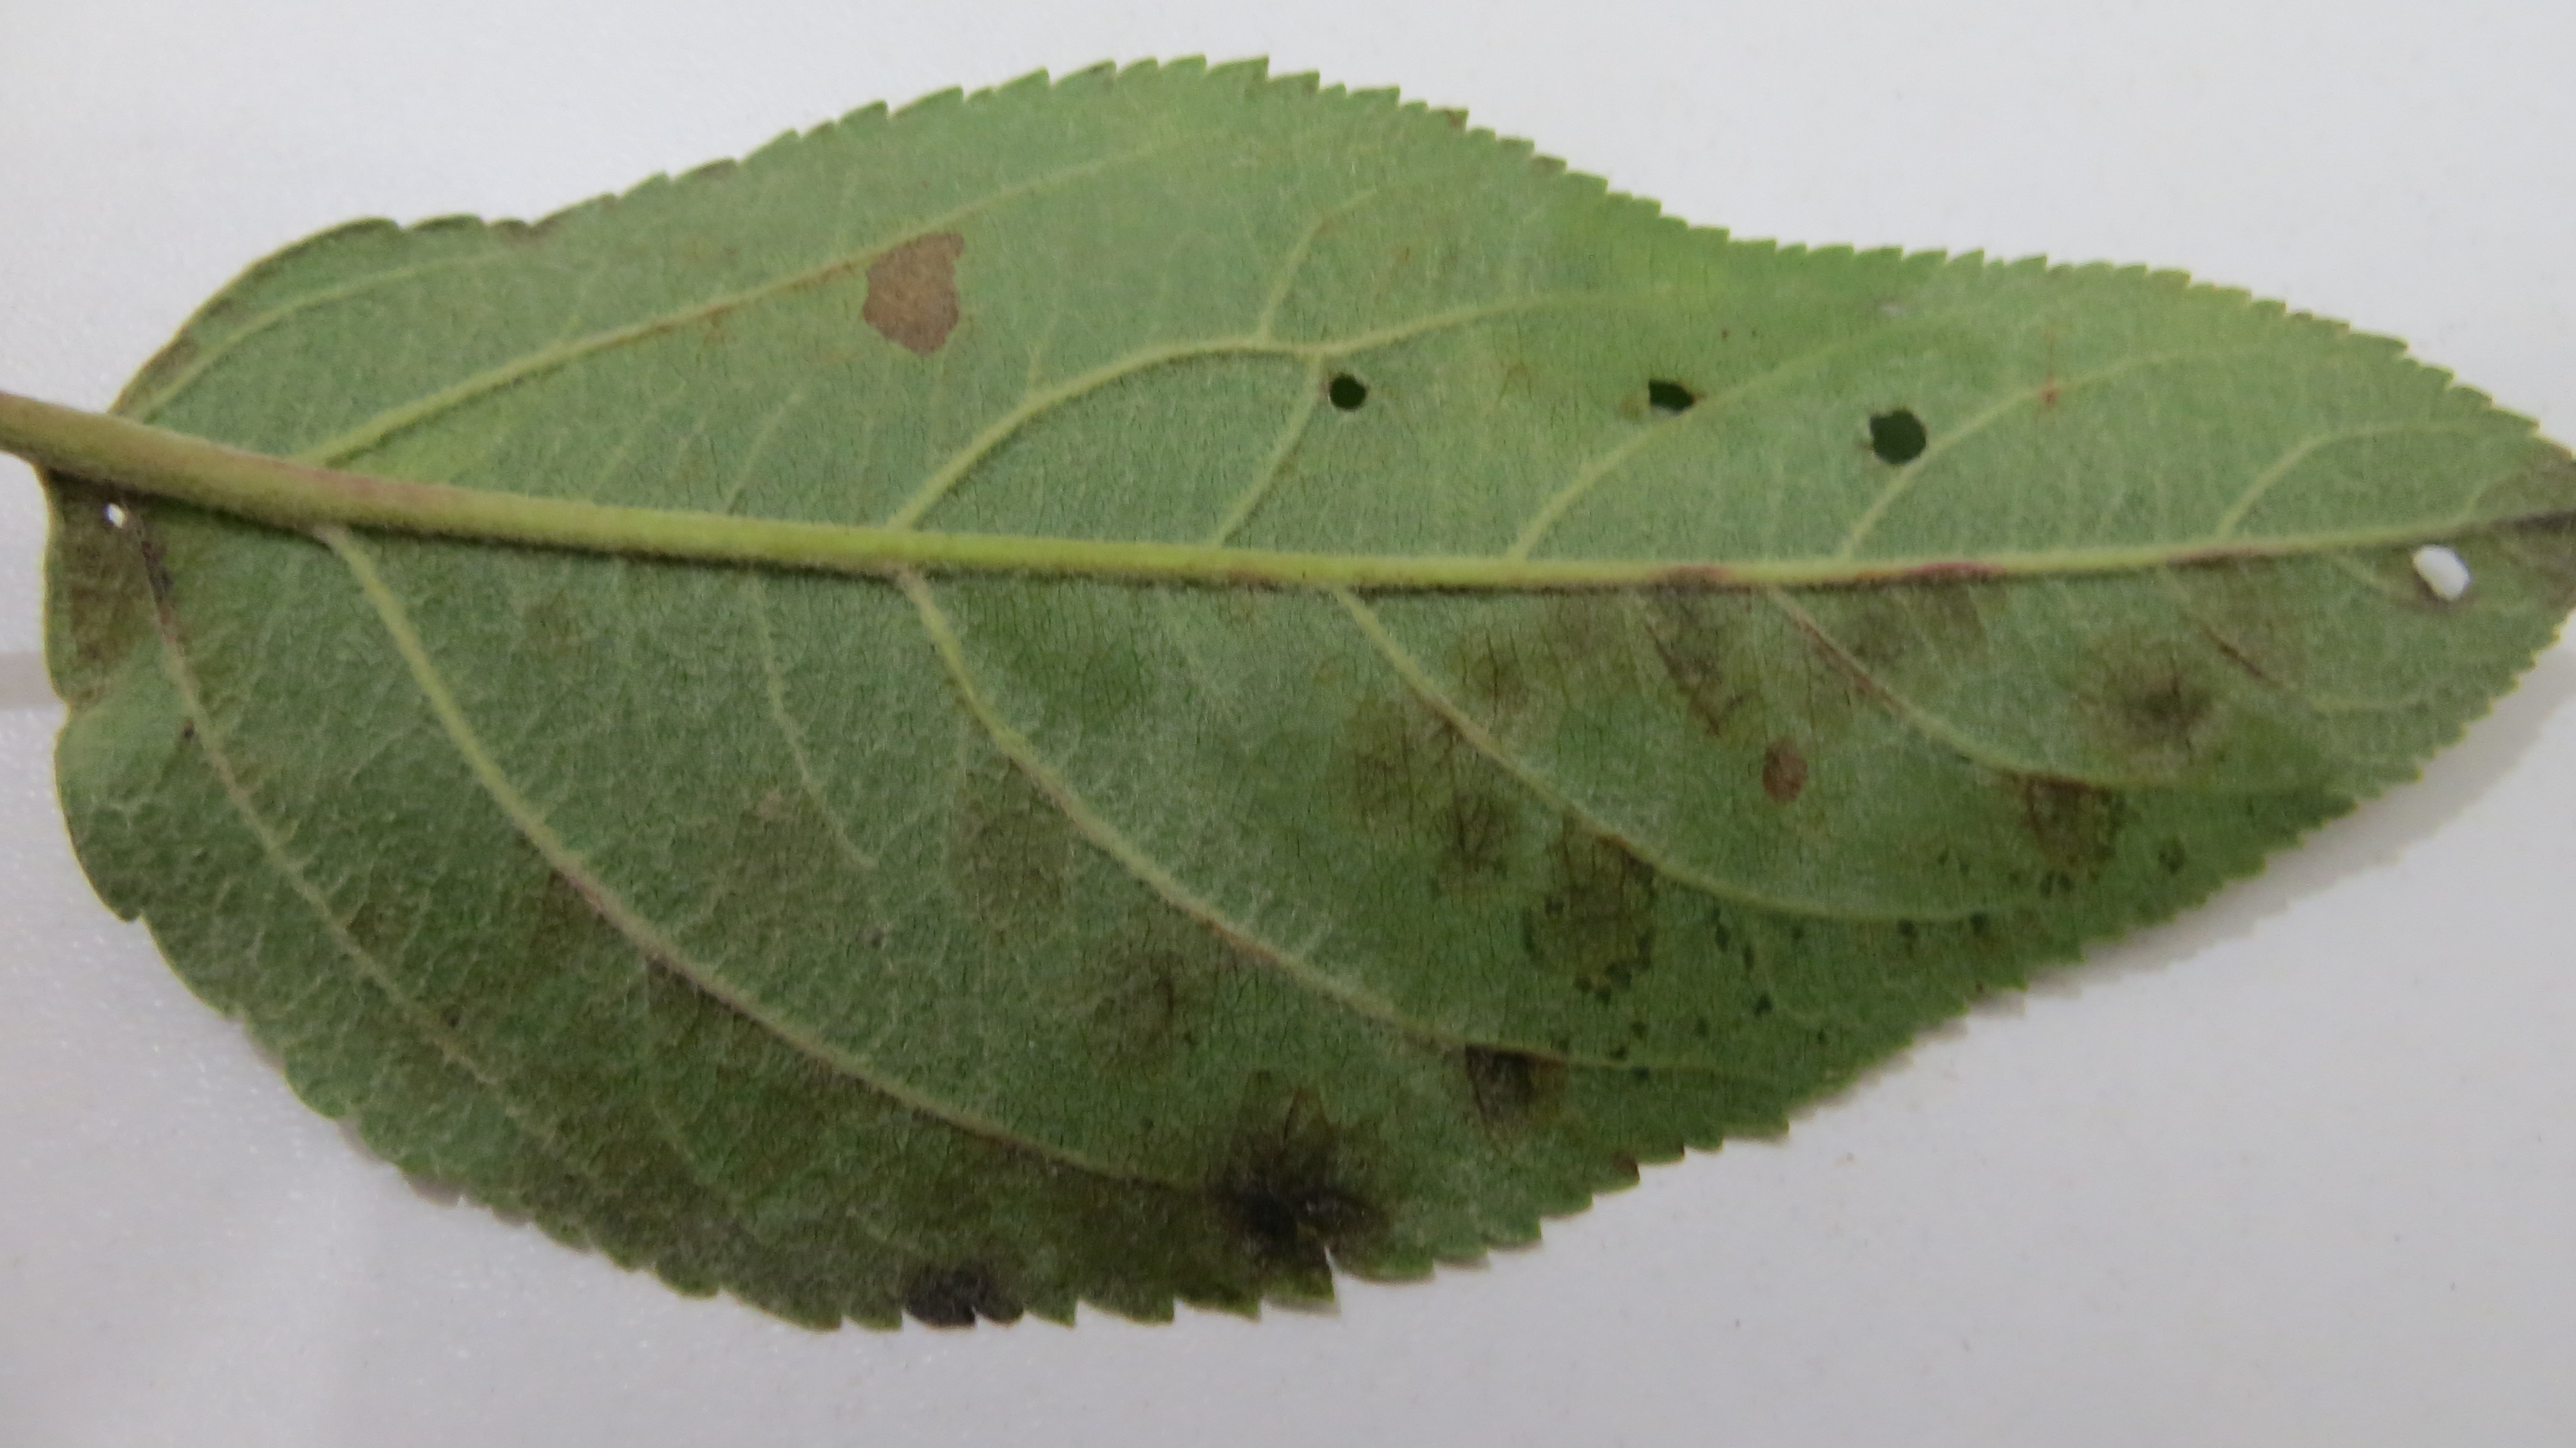sarna: (28, 458, 209, 690), (925, 713, 1095, 956), (1207, 1067, 1394, 1287), (1796, 554, 1996, 731), (2075, 630, 2231, 786), (1644, 540, 1766, 738), (1072, 908, 1217, 1074), (1442, 1021, 1605, 1163), (1329, 680, 1467, 844), (849, 211, 985, 374), (1532, 561, 1652, 738), (1992, 752, 2137, 887), (497, 837, 614, 977), (1449, 628, 1559, 774), (1426, 777, 1534, 919), (890, 1246, 1016, 1342), (2210, 586, 2304, 712), (633, 942, 729, 1044), (1744, 722, 1819, 818)
